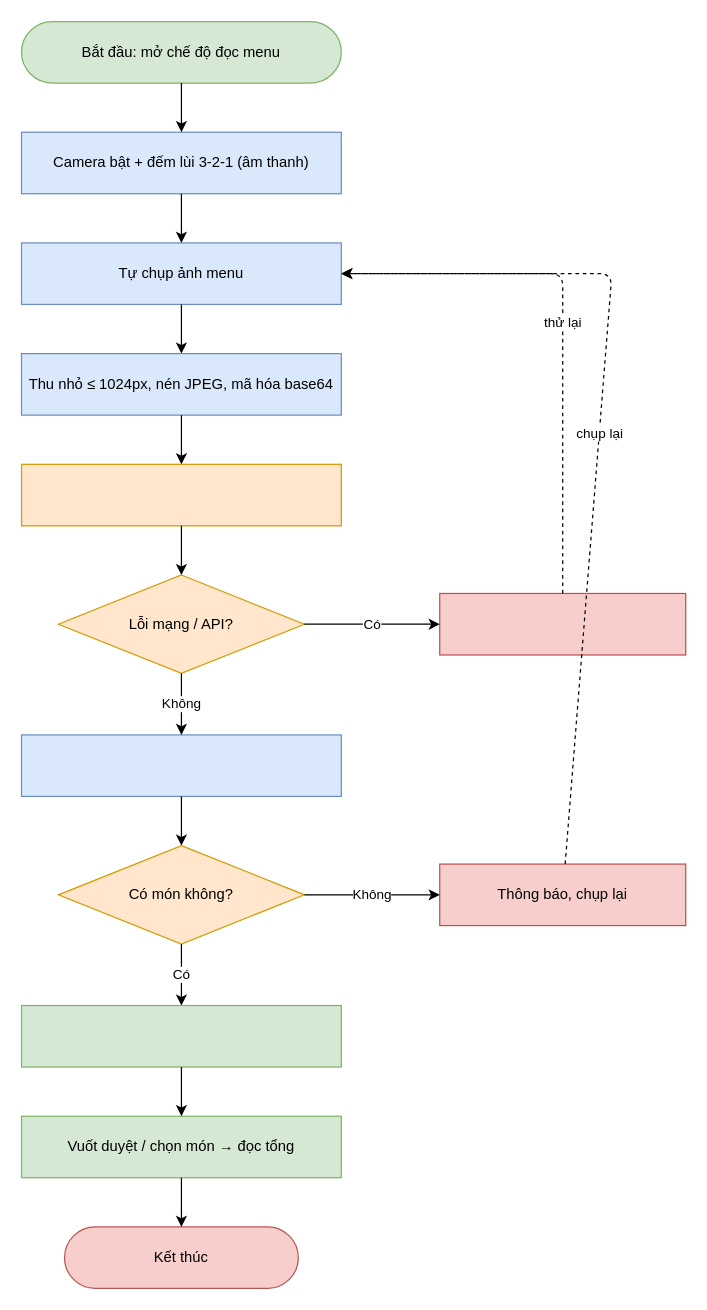
The diagram is 707 pixels wide and 1310 high, and some of its shapes have lost their labels. Each missing label, with the centre of its shape:
"Gửi Groq VLM (Llama 4 Scout)" goes at point 180,494.
"Nhận JSON {món, giá} + chuẩn hóa giá" goes at point 180,765.
"Thông báo lỗi, cho thử lại" goes at point 562,623.
"TTS đọc danh sách món" goes at point 180,1035.
